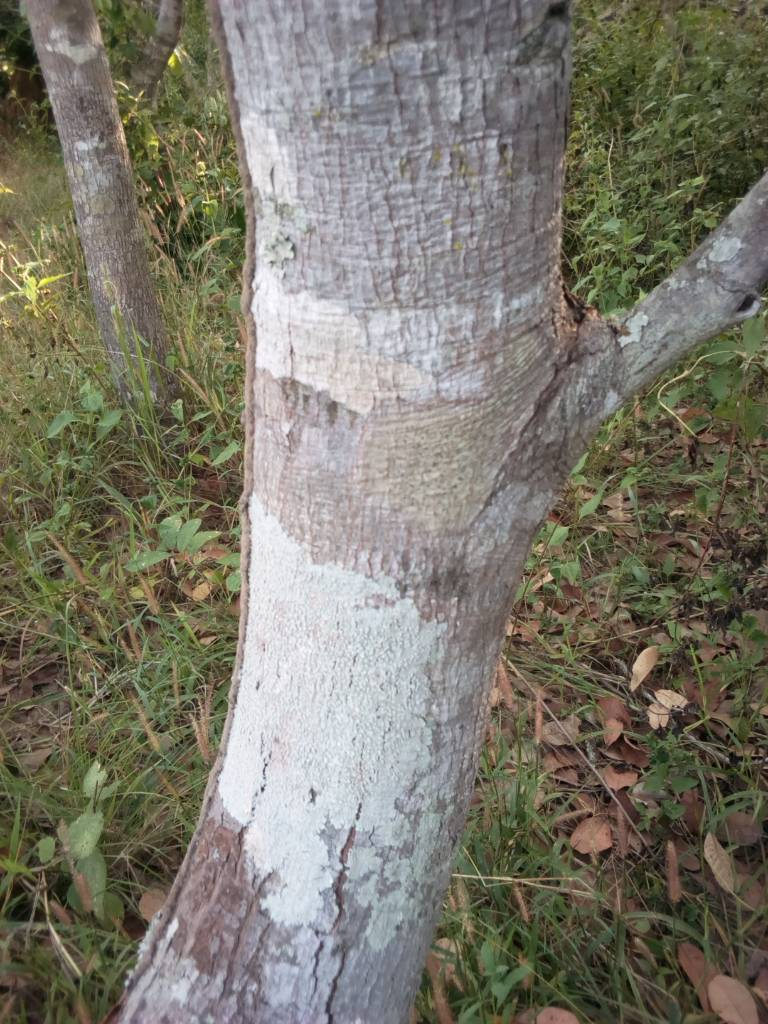Termites: (202, 399, 255, 805)
